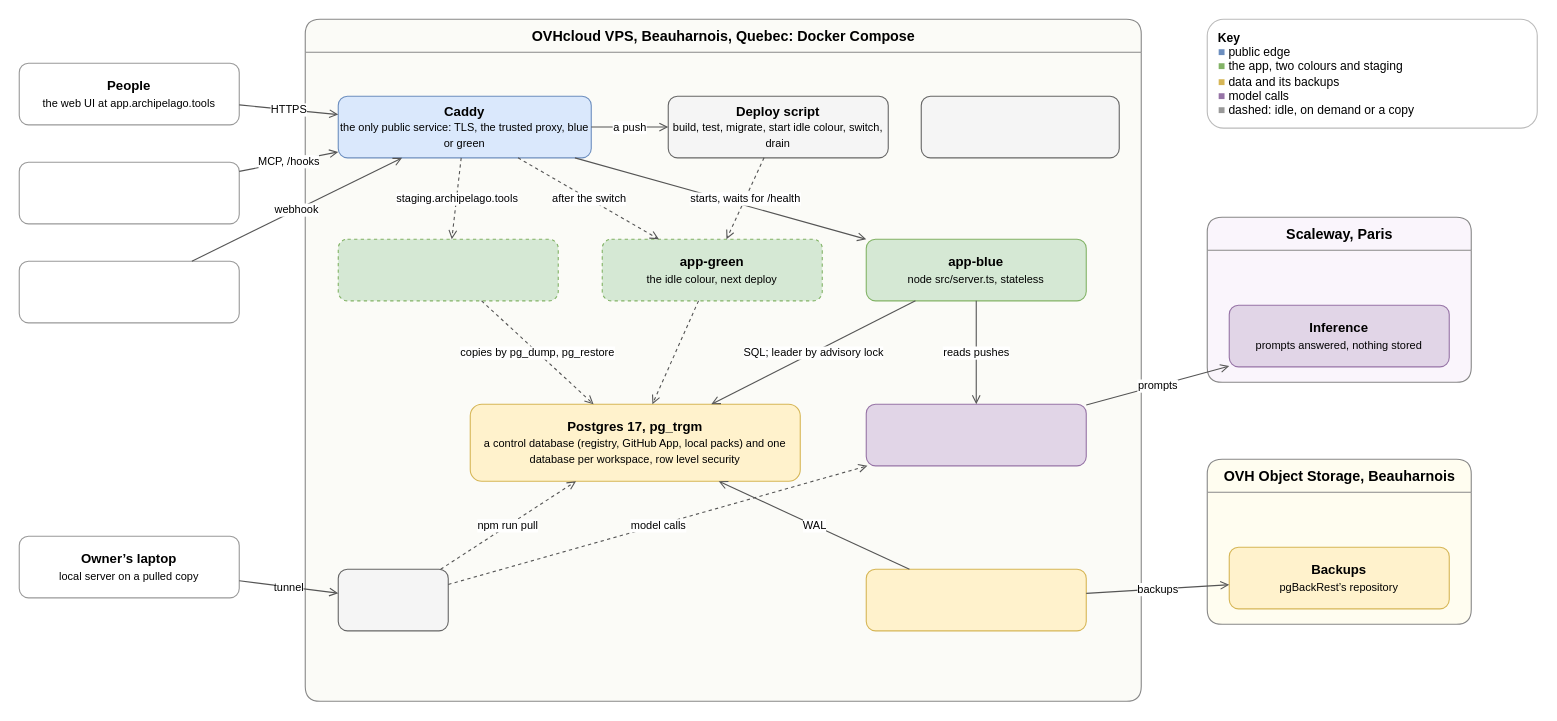
The diagram is 1557 pixels wide and 721 high, and some of its shapes have lost their labels. The centre of each missing label's shape, as x and y in pixels:
"Agent sessions Claude Code over MCP, hooks" goes at (x=128, y=192).
"GitHub push webhook, the GitHub App" goes at (x=128, y=291).
"LiteLLM every model call: the push reader" goes at (x=975, y=434).
"pgBackRest base backups and WAL" goes at (x=975, y=599).
"staging any branch, on a copy of live; acts on nothing outside" goes at (x=447, y=269).
"Uptime Kuma watches /health on each colour" goes at (x=1019, y=126).
"WireGuard the laptop’s way in" goes at (x=392, y=599).
